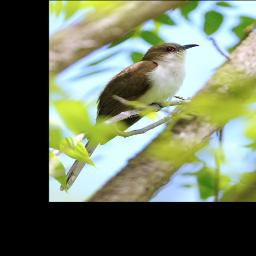Cuckoo: (57, 41, 200, 192)
